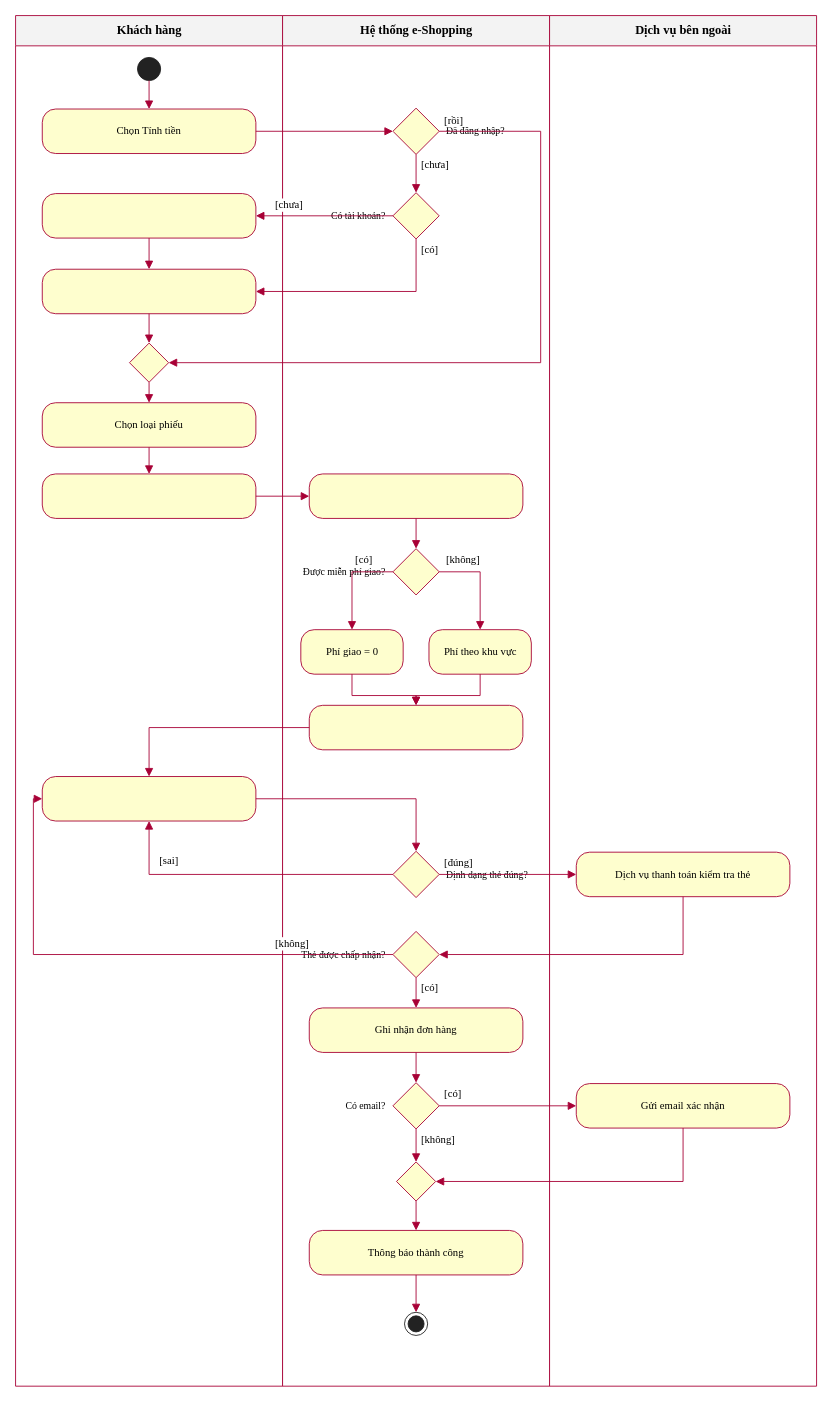
Image size: 832x1402. Some labels were removed from this diagram. Each missing label, with the centre of its shape:
"Cộng phí vào tổng" goes at (415,727).
"Nhập thông tin người nhận" goes at (148,495).
"Nhập thông tin thẻ" goes at (148,798).
"Tính tổng tiền hàng" goes at (415,495).
"Đăng ký" goes at (148,215).
"Đăng nhập" goes at (148,291).
